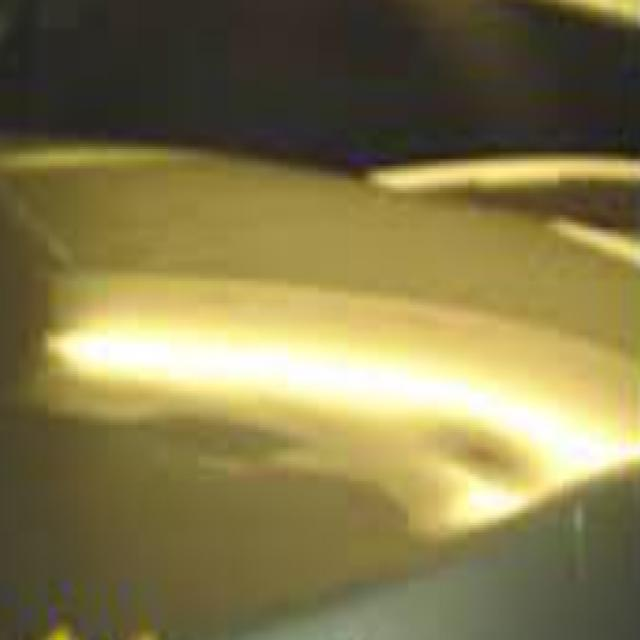dents: (410, 394, 553, 549)
